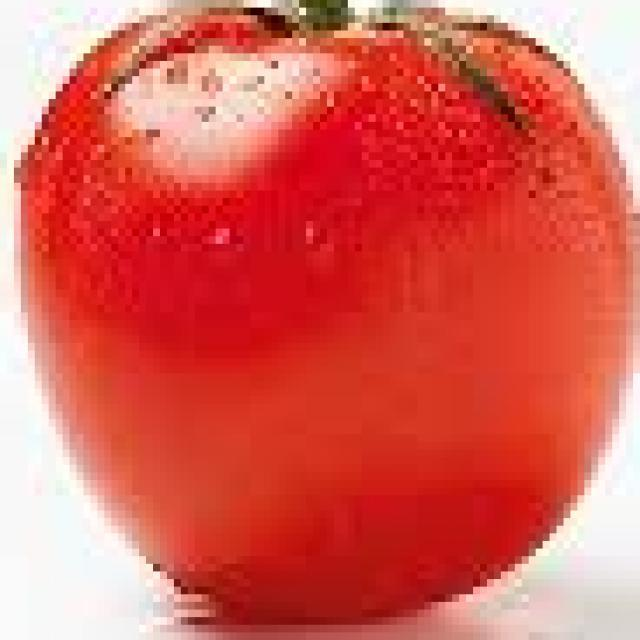Healthy: (15, 9, 640, 622)
